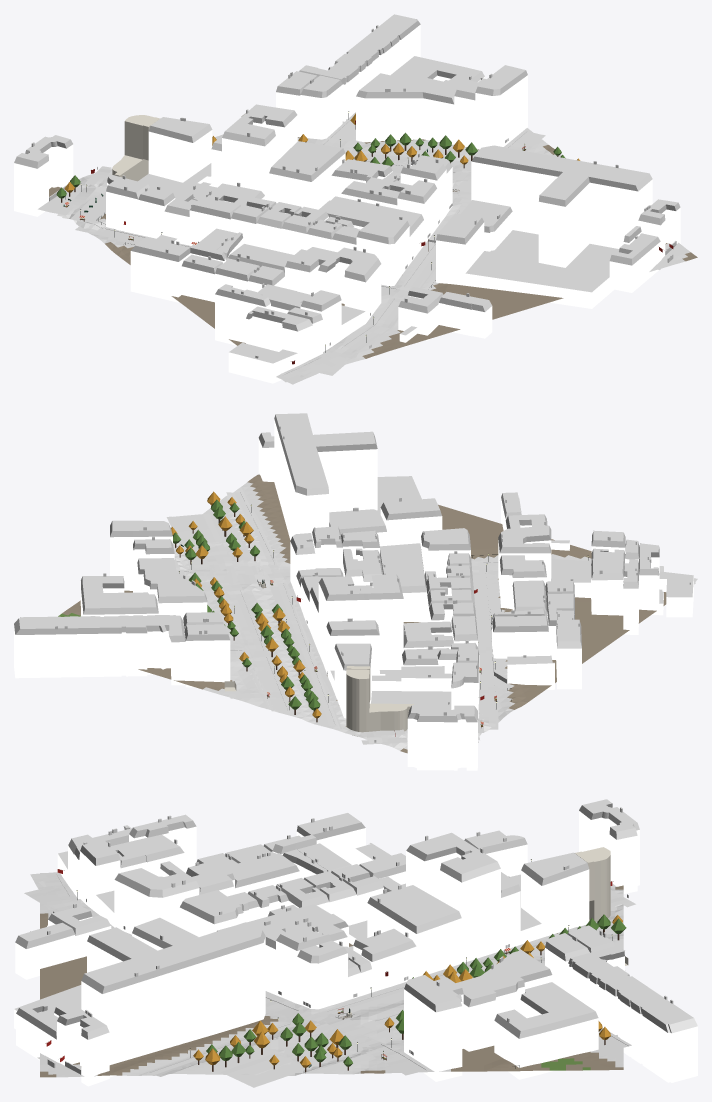
Rendered from zone_G3.glb.
The picture shows the model from 3 angles, top to bottom: view 1: azimuth 30°, elevation 25°; view 2: azimuth 150°, elevation 25°; view 3: azimuth 270°, elevation 25°; orthographic projection. The views are drawn at different scales.
Visible parts, largest first — view 1: zone_G3_batiments, zone_G3_terrain, zone_G3_sol_NOCOL, zone_G3_decor_NOCOL; view 2: zone_G3_batiments, zone_G3_terrain, zone_G3_sol_NOCOL, zone_G3_decor_NOCOL; view 3: zone_G3_batiments, zone_G3_terrain, zone_G3_sol_NOCOL, zone_G3_decor_NOCOL.
Part boxes in pixels (left/top/right/bottom): zone_G3_batiments: left=14, top=14, right=680, bottom=383; zone_G3_terrain: left=49, top=119, right=697, bottom=382; zone_G3_sol_NOCOL: left=38, top=112, right=683, bottom=384; zone_G3_decor_NOCOL: left=56, top=111, right=580, bottom=352; zone_G3_batiments: left=14, top=413, right=693, bottom=770; zone_G3_terrain: left=58, top=474, right=695, bottom=753; zone_G3_sol_NOCOL: left=166, top=488, right=697, bottom=744; zone_G3_decor_NOCOL: left=171, top=491, right=588, bottom=722; zone_G3_batiments: left=14, top=799, right=697, bottom=1086; zone_G3_terrain: left=40, top=873, right=623, bottom=1077; zone_G3_sol_NOCOL: left=24, top=872, right=635, bottom=1087; zone_G3_decor_NOCOL: left=76, top=859, right=626, bottom=1072.
Bounding box in the file's own units: 225 × 47.22 × 250.
